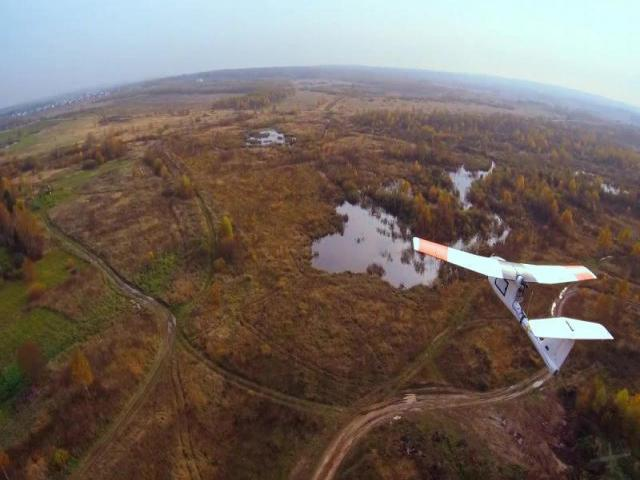hedef: (406, 214, 614, 380)
